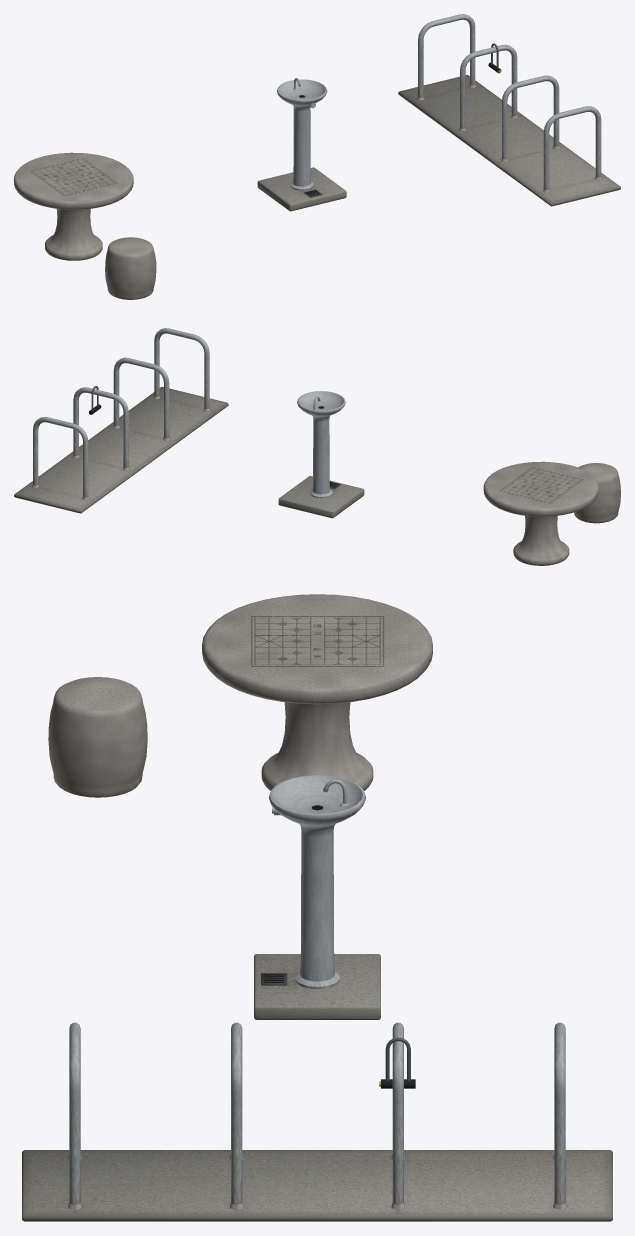
The model's file is park3_props.glb.
3 views of the same model, one above another, from view 1: azimuth 30°, elevation 25°; view 2: azimuth 150°, elevation 25°; view 3: azimuth 270°, elevation 25° (orthographic). The views are drawn at different scales.
Parts seen in each view (by area): view 1: PARK_BIKE_RACK, PARK_CHESS_TABLE, PARK_FOUNTAIN, PARK_STOOL; view 2: PARK_BIKE_RACK, PARK_CHESS_TABLE, PARK_FOUNTAIN, PARK_STOOL; view 3: PARK_BIKE_RACK, PARK_CHESS_TABLE, PARK_FOUNTAIN, PARK_STOOL.
Boxes of the visible parts, x1,y1,x2,y2 form: PARK_BIKE_RACK: [398, 14, 620, 206]; PARK_CHESS_TABLE: [14, 152, 133, 260]; PARK_FOUNTAIN: [257, 78, 346, 211]; PARK_STOOL: [105, 237, 156, 299]; PARK_BIKE_RACK: [14, 328, 228, 513]; PARK_CHESS_TABLE: [483, 461, 598, 565]; PARK_FOUNTAIN: [278, 391, 364, 518]; PARK_STOOL: [574, 463, 620, 523]; PARK_BIKE_RACK: [22, 1022, 612, 1221]; PARK_CHESS_TABLE: [202, 594, 432, 790]; PARK_FOUNTAIN: [254, 775, 380, 1019]; PARK_STOOL: [48, 677, 147, 797].
Size of the model in its own units: 5.04 by 1.03 by 2.56.
Materials: 1 (1 with a texture image).
